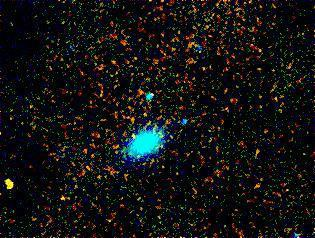star: (0, 174, 25, 204)
